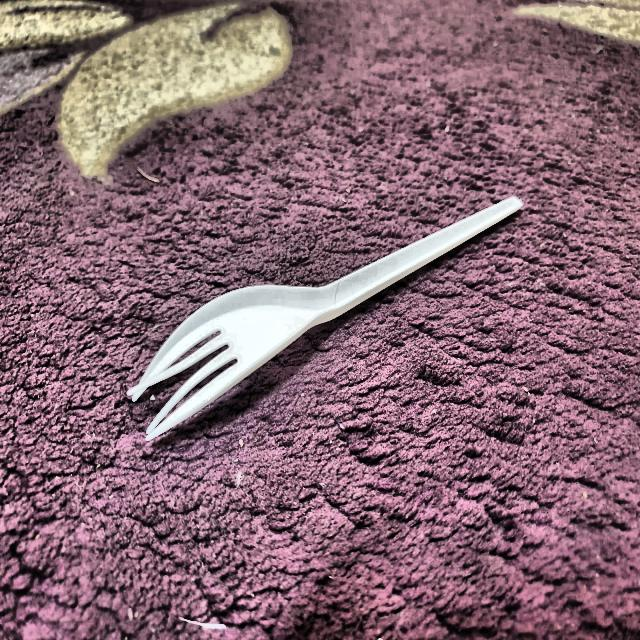plastic utensil: (124, 191, 530, 450)
